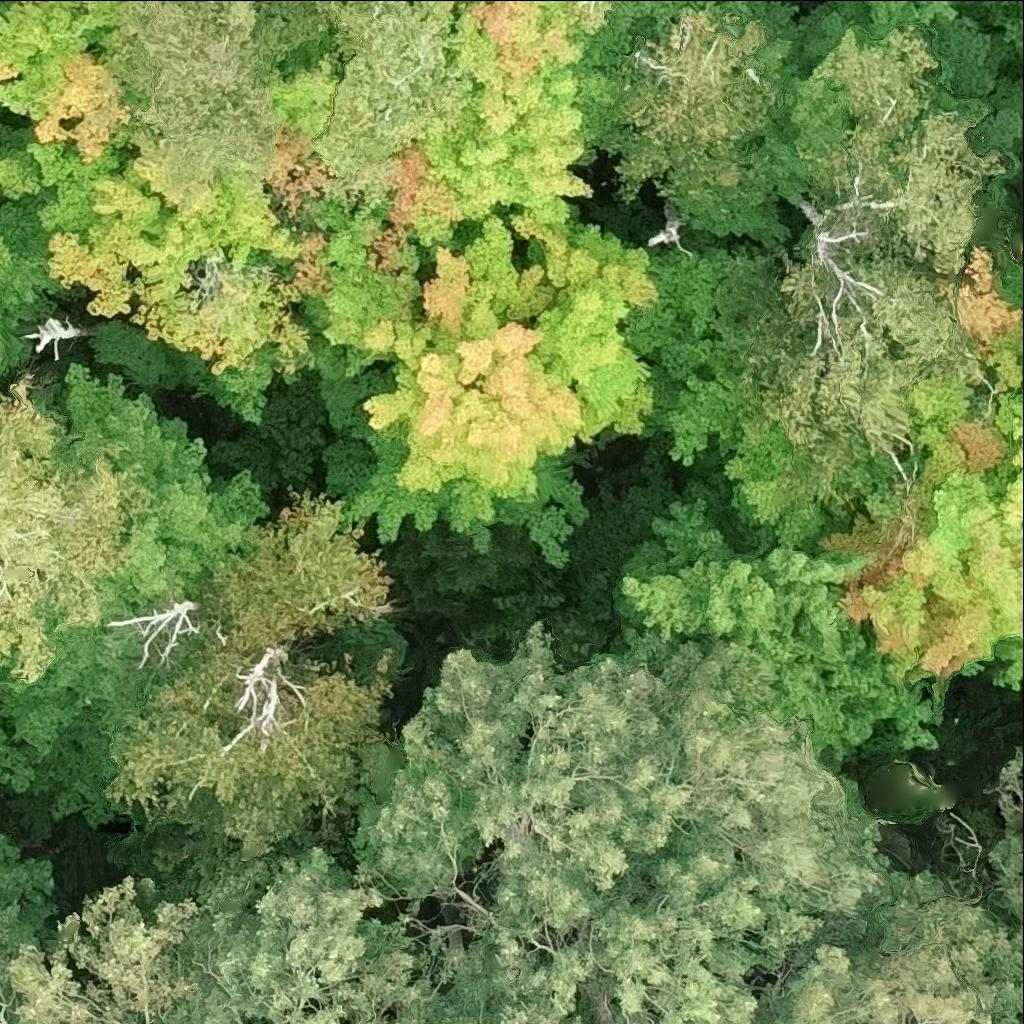crown: (374, 625, 905, 1023), (743, 0, 1023, 502), (309, 200, 657, 566), (811, 242, 1023, 719), (622, 248, 924, 553), (177, 27, 494, 298), (620, 499, 937, 755), (49, 153, 320, 423), (108, 637, 394, 851), (0, 0, 159, 371), (575, 0, 805, 243), (50, 364, 270, 612), (164, 849, 455, 1023), (104, 0, 328, 205), (411, 0, 615, 222), (0, 585, 171, 824), (747, 876, 1023, 1023), (0, 380, 124, 675), (310, 0, 477, 199), (0, 872, 195, 1023), (213, 489, 394, 649), (367, 911, 586, 1023), (988, 747, 1023, 923), (0, 835, 54, 934), (984, 0, 1023, 64), (1009, 372, 1023, 479), (448, 0, 493, 20), (69, 285, 77, 291)
